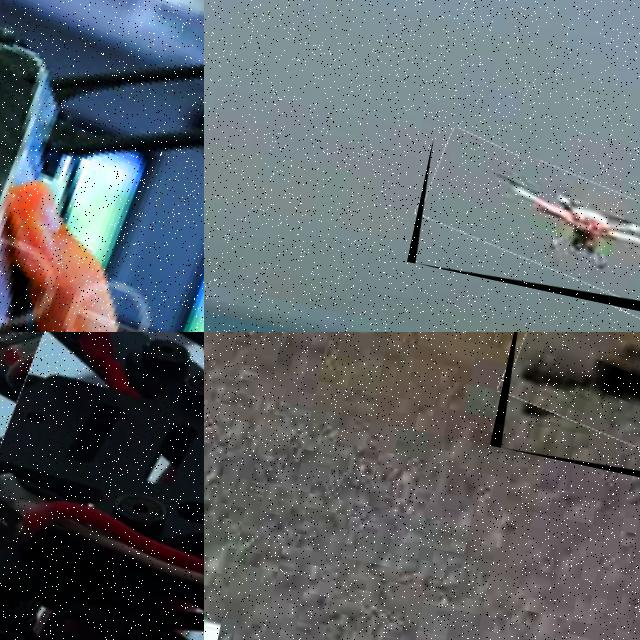drone: (0, 0, 204, 332), (0, 332, 204, 640), (406, 137, 640, 322), (489, 332, 640, 514)
